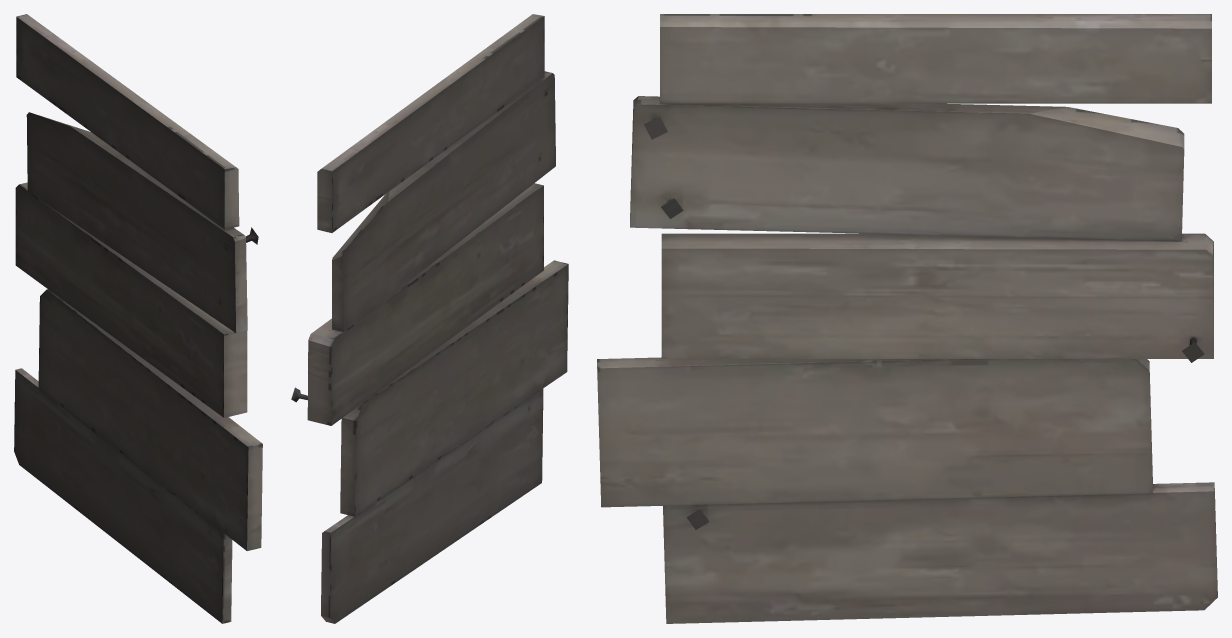
3 renders of one model, left to right at view 1: azimuth 30°, elevation 25°; view 2: azimuth 150°, elevation 25°; view 3: azimuth 270°, elevation 25°, orthographic. The views are drawn at different scales.
Parts seen in each view (by area): view 1: body0_model0_lod0_mesh0; view 2: body0_model0_lod0_mesh0; view 3: body0_model0_lod0_mesh0.
Part boxes in pixels (x1,y1,x2,y2): body0_model0_lod0_mesh0: (14,14,262,623); body0_model0_lod0_mesh0: (291,14,568,623); body0_model0_lod0_mesh0: (597,14,1217,623).
Size of the model in its own units: 10.33 by 104 by 96.58.
Materials: 1 (1 with a texture image).
